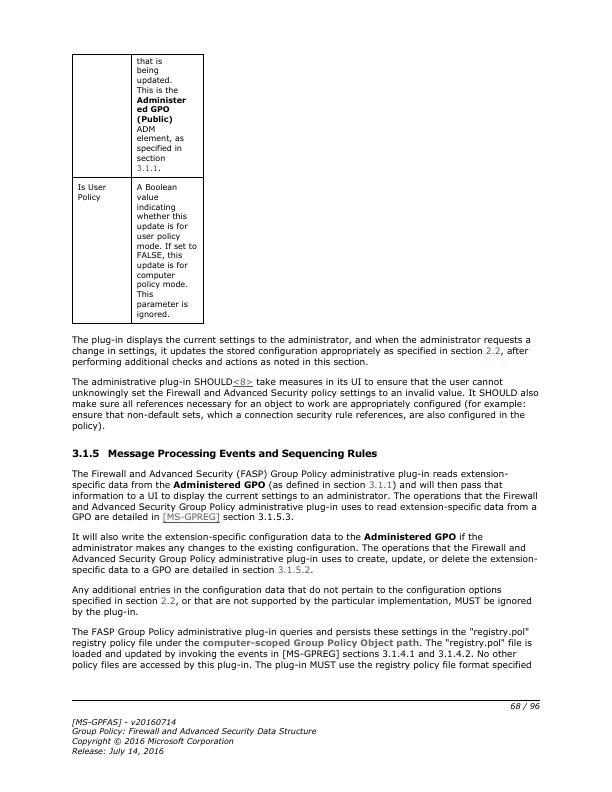table: (72, 53, 205, 325)
text: (69, 467, 540, 524), (69, 375, 540, 431), (69, 625, 536, 673), (68, 530, 539, 575), (68, 584, 534, 620), (69, 332, 534, 367), (68, 714, 319, 757), (67, 446, 380, 460)
